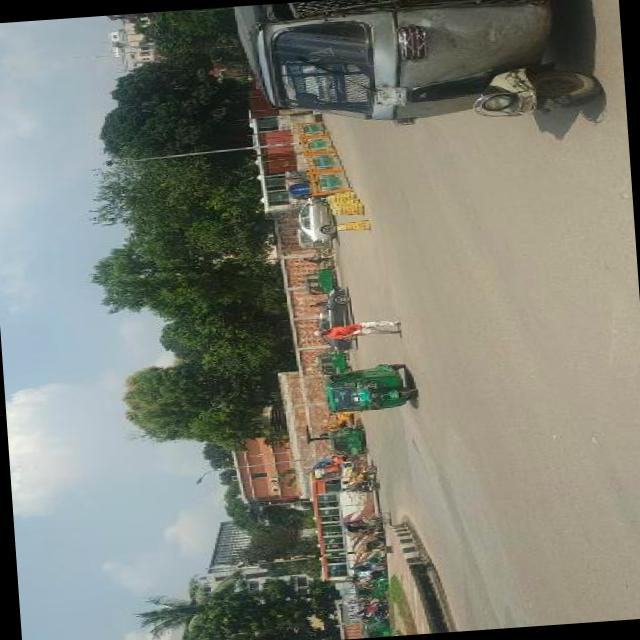bus: (305, 458, 358, 482)
car: (312, 292, 354, 352), (296, 202, 338, 248)
motorcycle: (227, 0, 610, 140), (320, 361, 417, 415), (341, 510, 396, 541), (328, 423, 368, 459), (311, 349, 351, 375), (298, 267, 334, 293), (350, 462, 380, 492), (348, 562, 387, 584), (359, 616, 390, 638), (284, 182, 311, 200), (283, 172, 312, 187), (370, 599, 387, 618)
